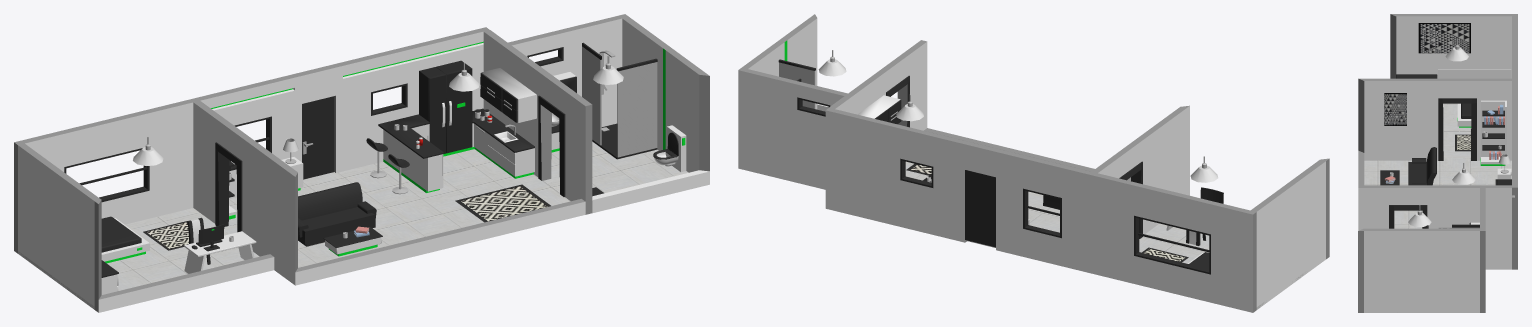
File: apart.fbx
3 views of the same model, side by side, from view 1: azimuth 30°, elevation 25°; view 2: azimuth 150°, elevation 25°; view 3: azimuth 270°, elevation 25° (orthographic). The views are drawn at different scales.
Parts seen in each view (by area): view 1: polySurface1, wall_L, ground, polySurface7, wall_L3, wall_L.001, wall_L5, wall_L1, polySurface12, ground1, pCube40, wall_L4 (+23 smaller); view 2: polySurface1, polySurface7, polySurface12, wall_L3, wall_L, wall_L.001, wall_L5, door.001, ground1, ground, polySurface9, pCube40 (+3 smaller); view 3: wall_L5, wall_L, wall_L.001, wall_L3, ground, Cube, polySurface1, pCube8, ground1, Cube.001, polySurface12, pCube20 (+17 smaller).
Boxes of the visible parts, bbox=[...] form: polySurface1: bbox=[190, 27, 489, 198]; wall_L: bbox=[193, 101, 297, 285]; ground: bbox=[224, 149, 570, 267]; polySurface7: bbox=[14, 99, 193, 253]; wall_L3: bbox=[18, 143, 101, 312]; wall_L.001: bbox=[483, 30, 592, 214]; wall_L5: bbox=[622, 17, 709, 172]; wall_L1: bbox=[295, 199, 585, 285]; polySurface12: bbox=[508, 14, 628, 126]; ground1: bbox=[18, 208, 259, 309]; pCube40: bbox=[616, 58, 657, 157]; wall_L4: bbox=[98, 254, 274, 312]; polySurface1: bbox=[825, 107, 1097, 273]; polySurface7: bbox=[1094, 173, 1256, 312]; polySurface12: bbox=[738, 67, 847, 189]; wall_L3: bbox=[1250, 158, 1329, 308]; wall_L: bbox=[1092, 105, 1189, 238]; wall_L.001: bbox=[829, 40, 927, 130]; wall_L5: bbox=[742, 14, 817, 109]; door.001: bbox=[965, 170, 995, 247]; ground1: bbox=[1139, 223, 1305, 309]; ground: bbox=[905, 161, 1059, 247]; polySurface9: bbox=[1134, 215, 1210, 274]; pCube40: bbox=[778, 59, 815, 108]; wall_L5: bbox=[1358, 228, 1479, 312]; wall_L: bbox=[1358, 78, 1511, 160]; wall_L.001: bbox=[1358, 185, 1511, 269]; wall_L3: bbox=[1390, 14, 1511, 78]; ground: bbox=[1364, 158, 1511, 228]; Cube: bbox=[1418, 23, 1470, 53]; polySurface1: bbox=[1512, 78, 1517, 269]; pCube8: bbox=[1481, 100, 1506, 164]; ground1: bbox=[1443, 103, 1471, 157]; Cube.001: bbox=[1384, 93, 1406, 125]; polySurface12: bbox=[1480, 187, 1485, 312]; pCube20: bbox=[1438, 69, 1511, 78].
Bounding box in the file's own units: 1738 × 339 × 541.
